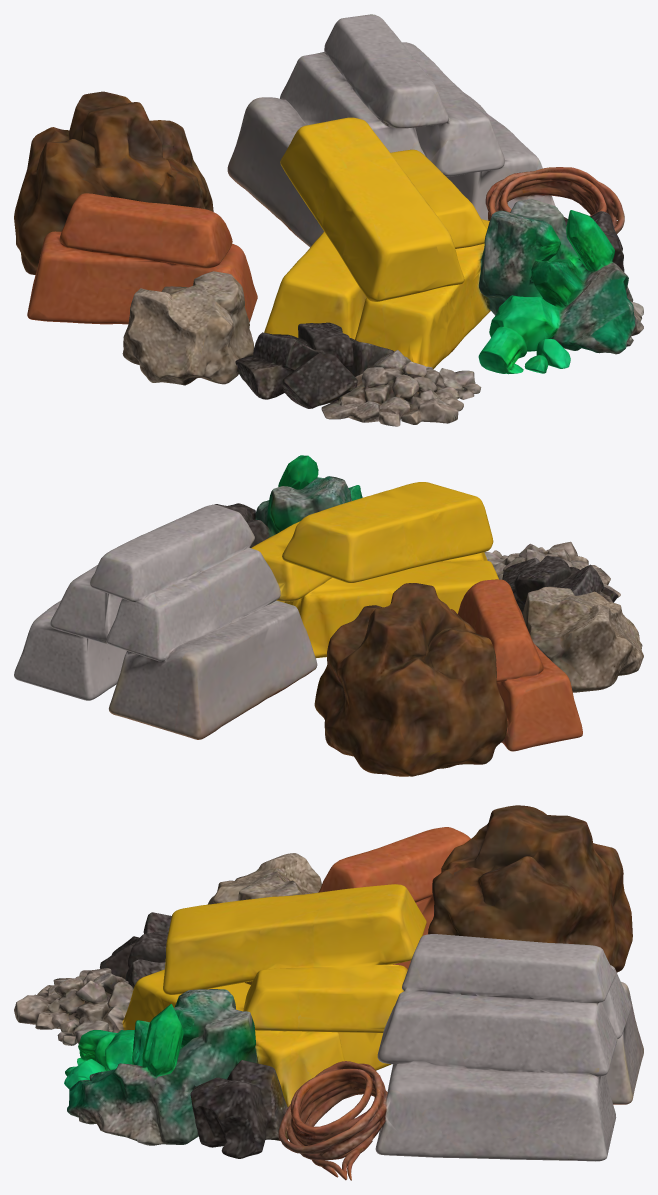
The model's file is brikme-minerals.glb.
3 views of the same model, one above another, from view 1: azimuth 30°, elevation 25°; view 2: azimuth 150°, elevation 25°; view 3: azimuth 270°, elevation 25° (orthographic). The views are drawn at different scales.
Parts seen in each view (by area): view 1: car; view 2: car; view 3: car.
Boxes of the visible parts, <box> form: car: <box>14,14,643,426</box>; car: <box>14,455,643,776</box>; car: <box>14,805,643,1180</box>.
Bounding box in the file's own units: 0.9809 × 0.2757 × 0.945.
1 material, 1 textured.
